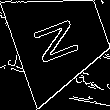N_E: (32, 12, 89, 67)
